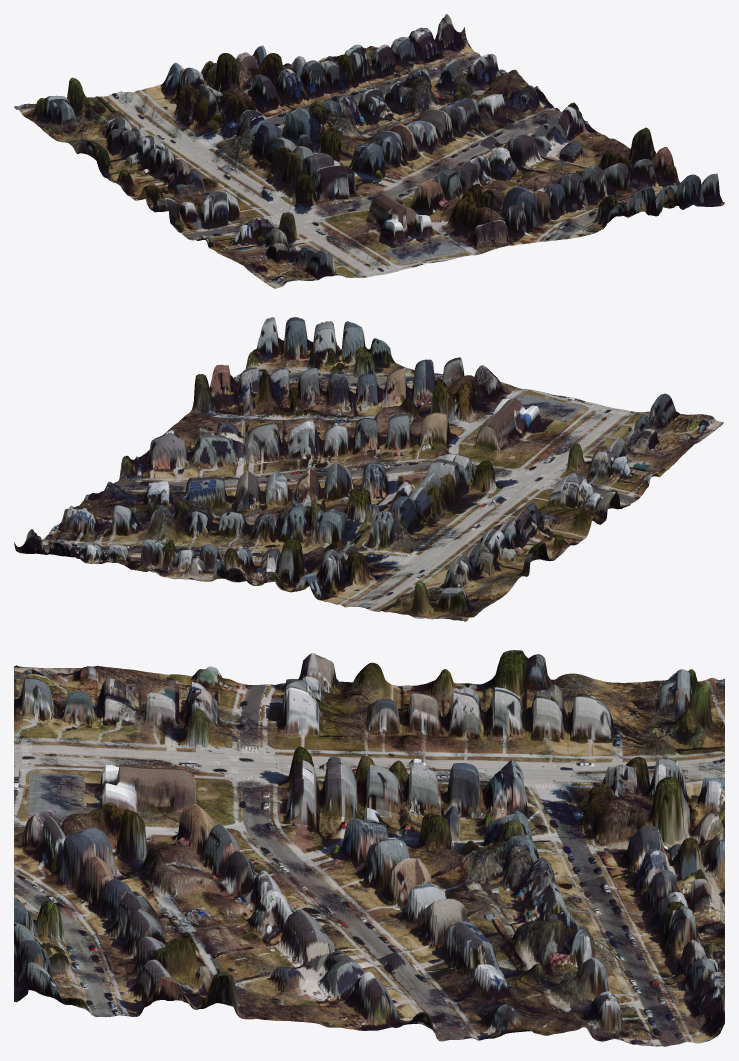
File: terrain-lod1.glb
The picture shows the model from 3 angles, top to bottom: view 1: azimuth 30°, elevation 25°; view 2: azimuth 150°, elevation 25°; view 3: azimuth 270°, elevation 25°; orthographic projection. The views are drawn at different scales.
Parts seen in each view (by area): view 1: geometry_0; view 2: geometry_0; view 3: geometry_0.
Boxes of the visible parts, bbox=[...] form: geometry_0: bbox=[14, 14, 724, 288]; geometry_0: bbox=[14, 317, 723, 621]; geometry_0: bbox=[14, 650, 724, 1046].
Size of the model in its own units: 1023 by 167 by 1023.
Materials: 1 (1 with a texture image).
